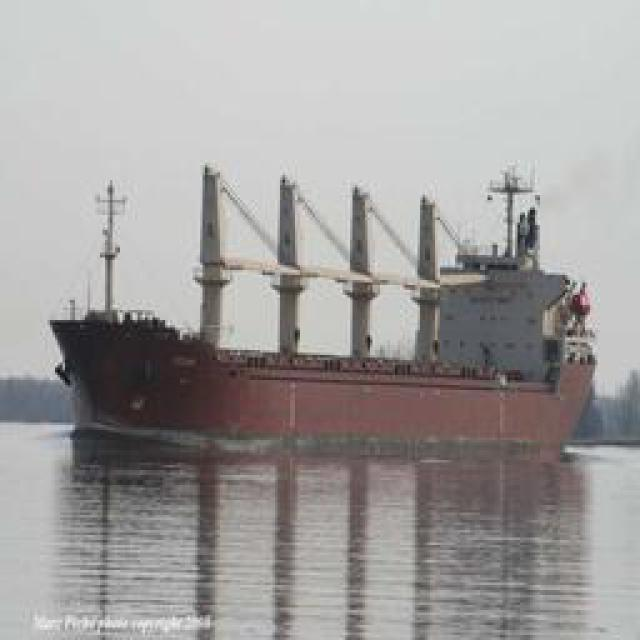Ship: (50, 151, 603, 464)
